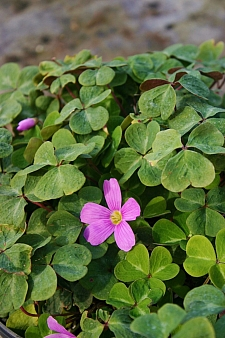oxalis: (1, 76, 218, 328)
